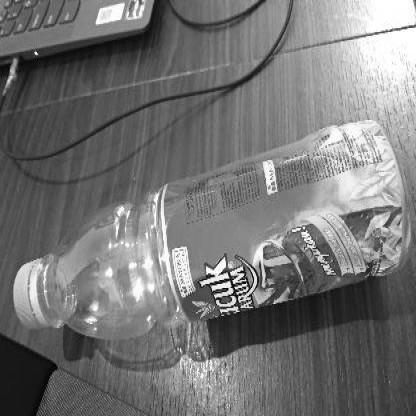plastic_bottles: (1, 113, 416, 346)
